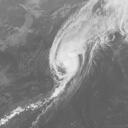cyclone: (49, 27, 96, 81)
